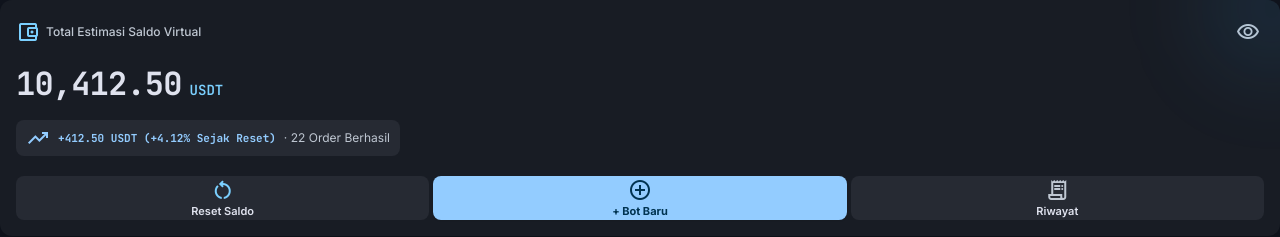
Test case: BalanceCard › hides the balance behind masked dots when the visibility toggle is used
What coordinates should you click on to do the following:
click the button named "Sembunyikan Saldo"
I would click on:
 (1248, 32)
Its box is [1232,16,1264,48].
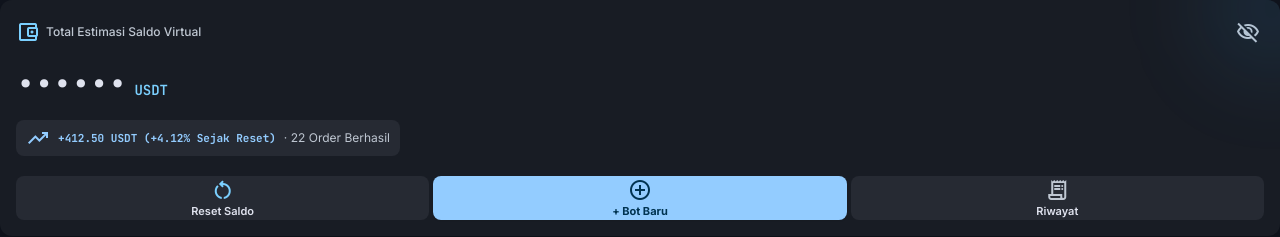
Check: the text "10,412.50" is gone
Check: the text "••••••" is shown, box [16,64,126,104]
